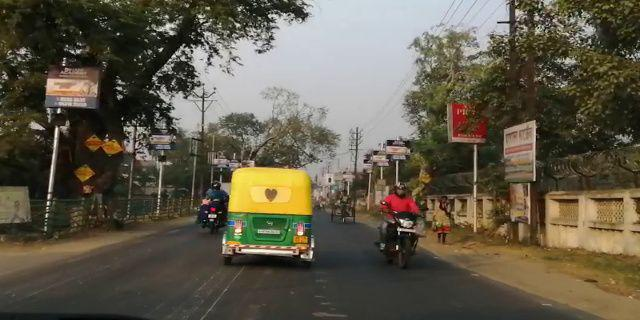Autorickshaw: (219, 166, 317, 266)
Motorbike: (374, 185, 421, 269), (197, 180, 227, 236)
Van: (325, 185, 358, 222)
